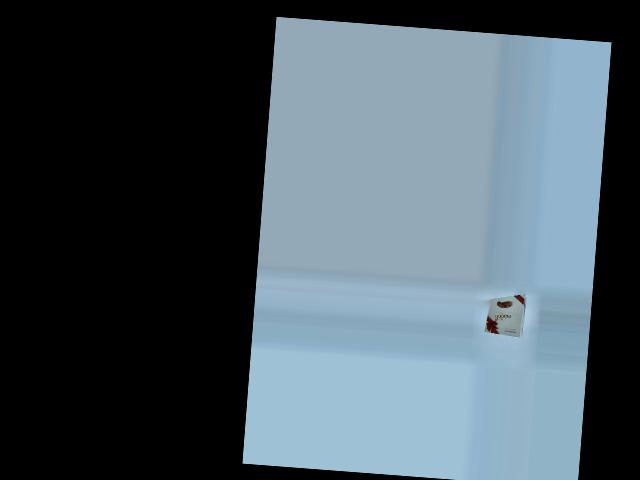chocolate: (483, 289, 535, 337)
